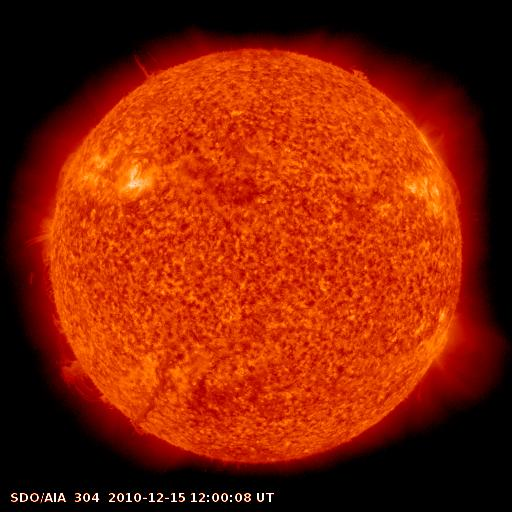prominence: (46, 312, 120, 412), (15, 207, 64, 292), (123, 47, 167, 85), (344, 56, 383, 92), (121, 412, 160, 447)
